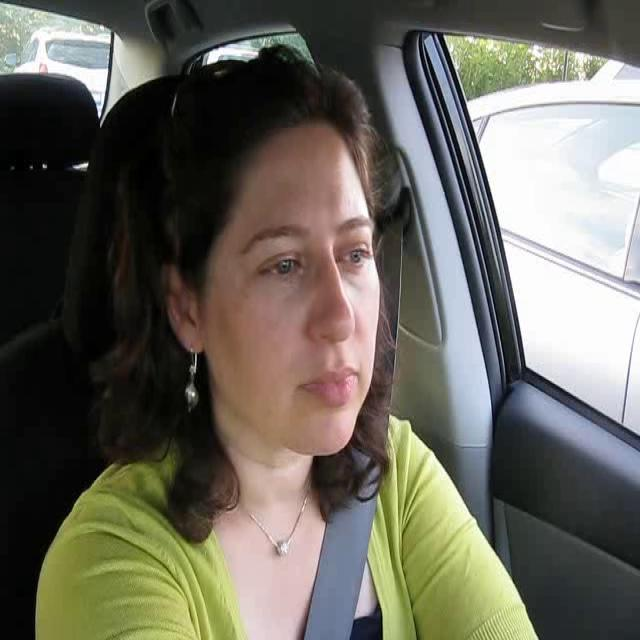close: (299, 360, 357, 410)
